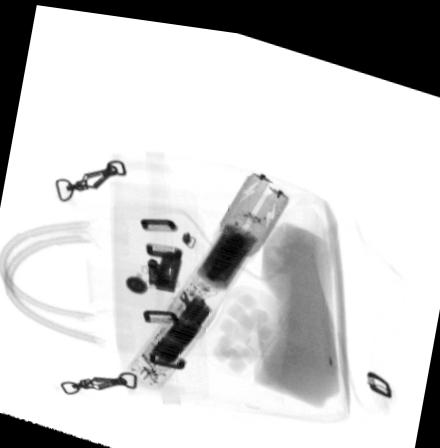Baton: (121, 162, 291, 387)
